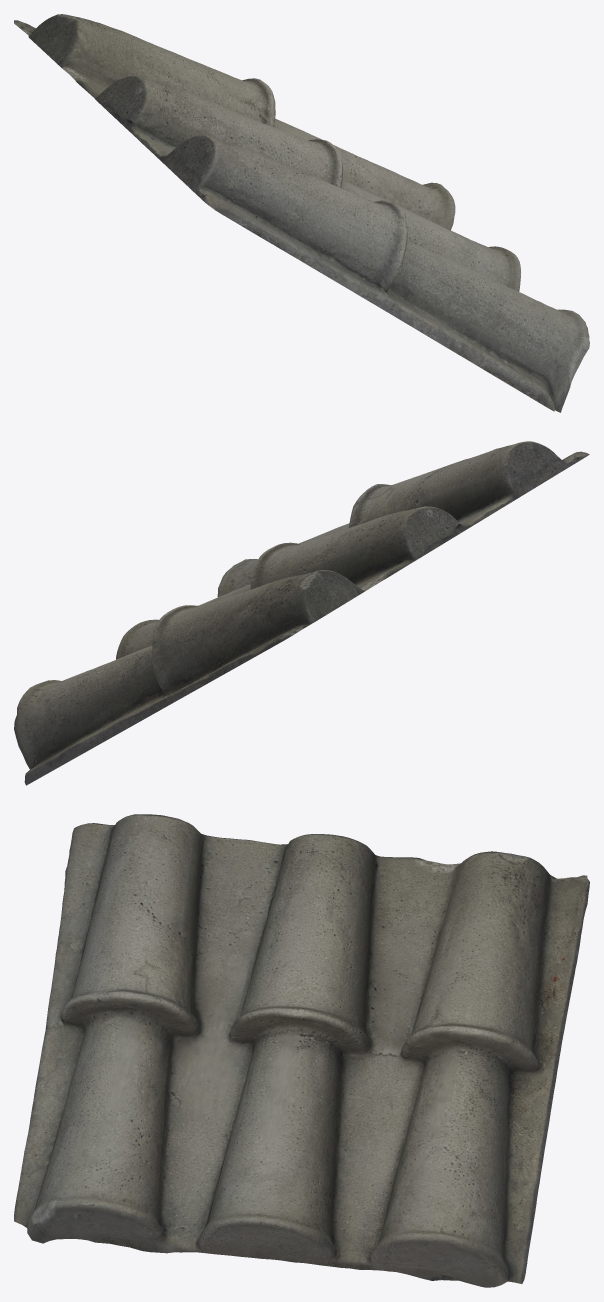
The model's file is Retopo_3DModel_mesh.052.glb.
3 views of the same model, one above another, from view 1: azimuth 30°, elevation 25°; view 2: azimuth 150°, elevation 25°; view 3: azimuth 270°, elevation 25° (orthographic). The views are drawn at different scales.
Visible parts, largest first — view 1: Retopo_3DModel_mesh.052; view 2: Retopo_3DModel_mesh.052; view 3: Retopo_3DModel_mesh.052.
Boxes of the visible parts, bbox=[...] form: Retopo_3DModel_mesh.052: bbox=[14, 14, 589, 412]; Retopo_3DModel_mesh.052: bbox=[14, 441, 589, 785]; Retopo_3DModel_mesh.052: bbox=[14, 814, 589, 1287].
Size of the model in its own units: 3.83 by 2.75 by 4.65.
1 material, 1 textured.
